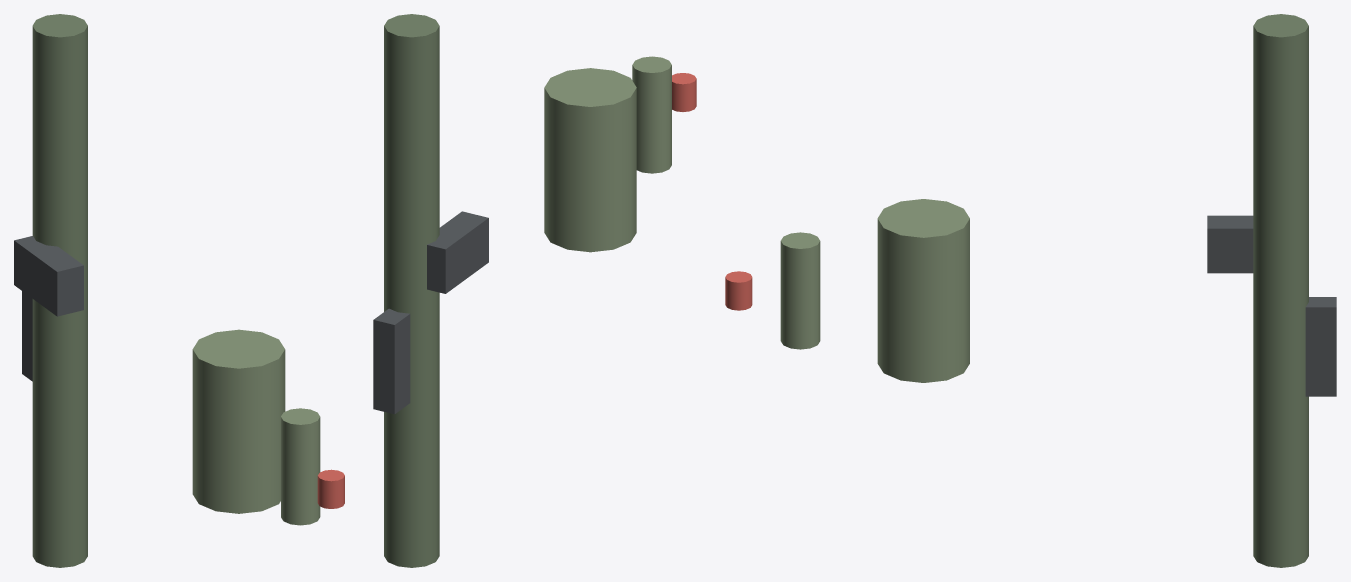
The model's file is alyassin_tandem.glb.
3 views of the same model, side by side, from view 1: azimuth 30°, elevation 25°; view 2: azimuth 150°, elevation 25°; view 3: azimuth 270°, elevation 25° (orthographic).
Visible parts, largest first — view 1: LaunchTube, MainCone, PrecursorProbe, OpticSight, DetonatorTip, Grip; view 2: LaunchTube, MainCone, PrecursorProbe, OpticSight, Grip, DetonatorTip; view 3: LaunchTube, MainCone, PrecursorProbe, Grip, OpticSight, DetonatorTip.
Part boxes in pixels (<box>): LaunchTube: <box>32,14,87,567</box>; MainCone: <box>192,329,285,513</box>; PrecursorProbe: <box>281,408,320,525</box>; OpticSight: <box>14,236,83,316</box>; DetonatorTip: <box>317,469,344,508</box>; Grip: <box>22,291,32,381</box>; LaunchTube: <box>384,14,439,567</box>; MainCone: <box>544,68,636,252</box>; PrecursorProbe: <box>632,56,671,173</box>; OpticSight: <box>427,211,488,293</box>; Grip: <box>373,308,410,414</box>; DetonatorTip: <box>672,73,696,111</box>; LaunchTube: <box>1253,14,1308,567</box>; MainCone: <box>877,199,969,382</box>; PrecursorProbe: <box>780,232,820,349</box>; Grip: <box>1305,297,1336,396</box>; OpticSight: <box>1207,215,1253,273</box>; DetonatorTip: <box>725,271,752,310</box>.
Bounding box in the file's own units: 0.15 × 0.95 × 0.992.
